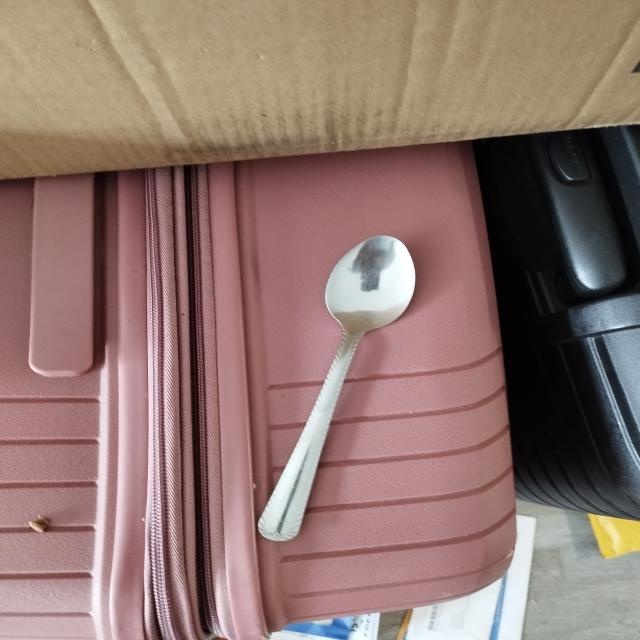Spoon: (227, 217, 428, 553)
